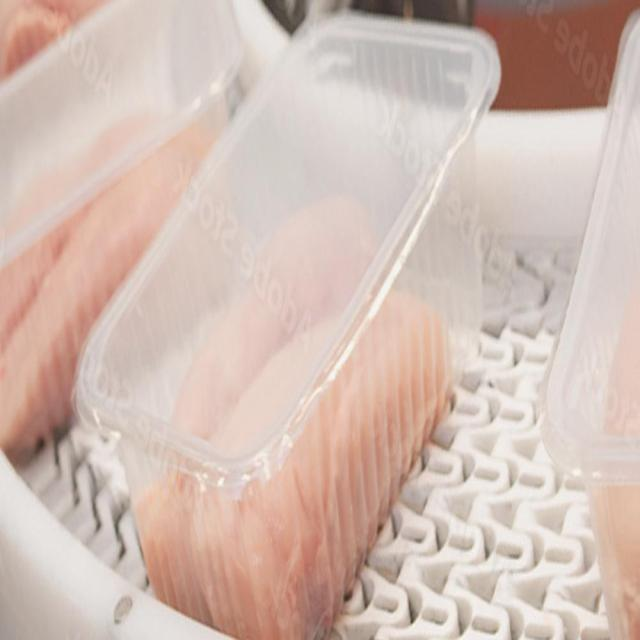food: (69, 9, 503, 637)
